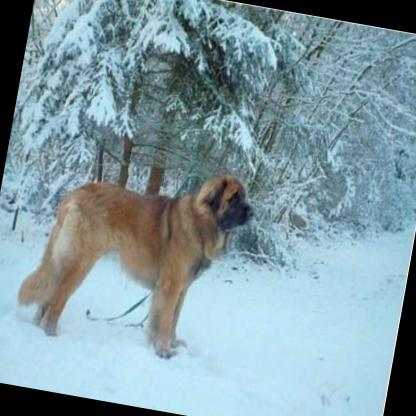Leonberg: (10, 141, 260, 370)
